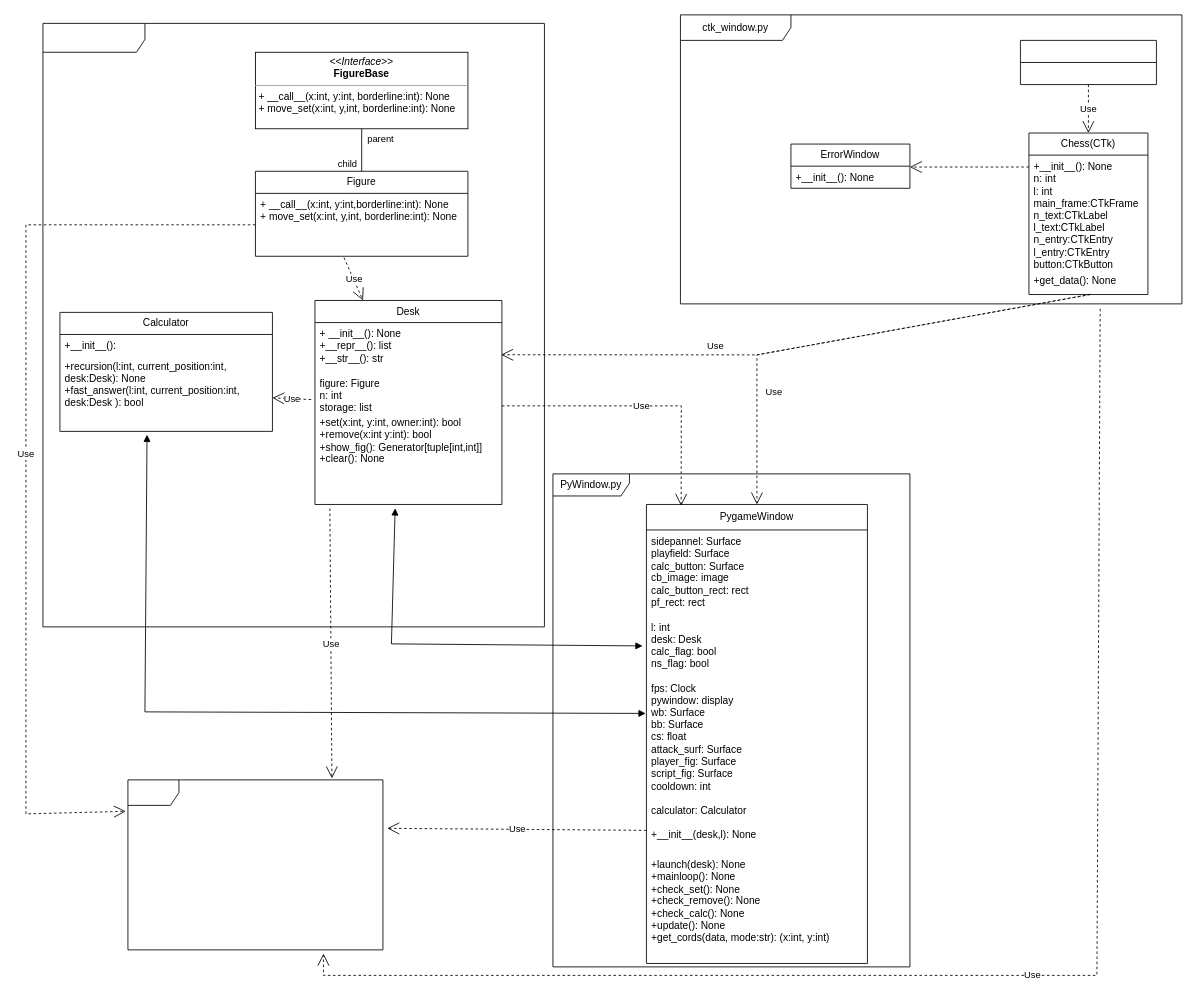
The diagram is 1197 pixels wide and 1002 high, and some of its shapes have lost their labels. The centre of each missing label's shape, as x and y in pixels:
"chess_module.py" goes at pixel 293 325.
"main.py" goes at pixel 255 864.
"NLError(BaseException)" goes at pixel 1088 62.
